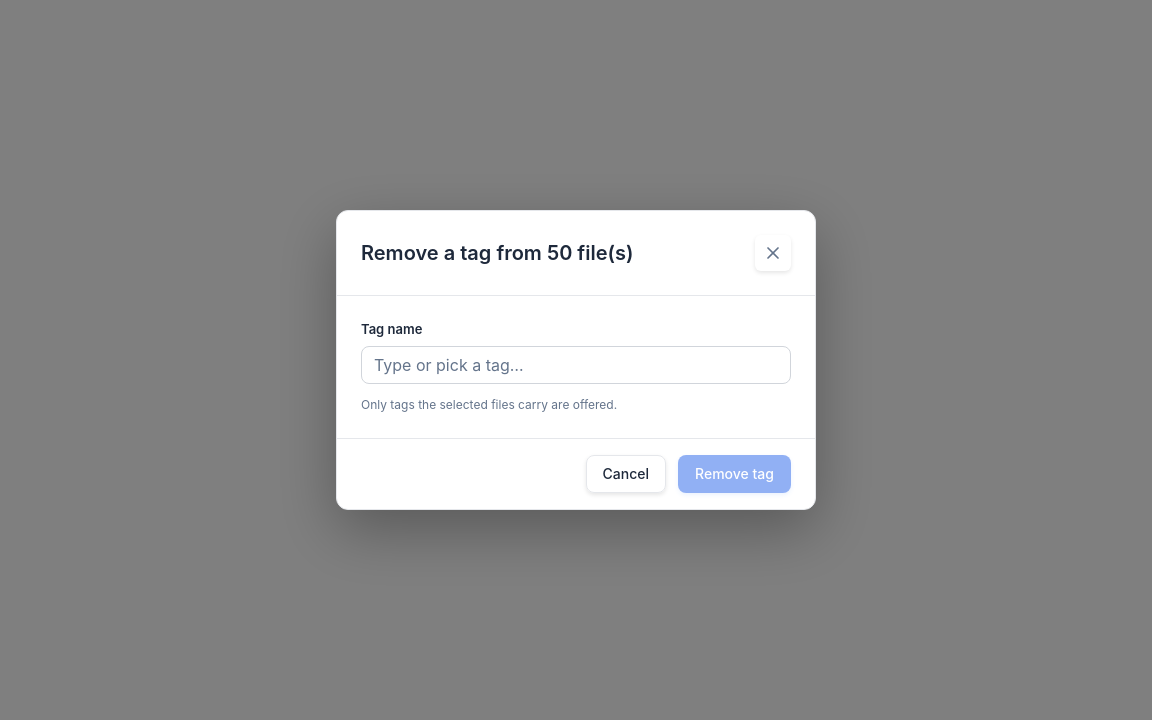
Test case: BulkTagModal › scopes remove suggestions to the tags the selection carries
The image size is (1152, 720).
Expected: the text "Only tags the selected files carry are offered." is shown, [361,397,617,412]
Step 1. Type "r" into the dropdown → (576, 365), box [361,346,791,384]
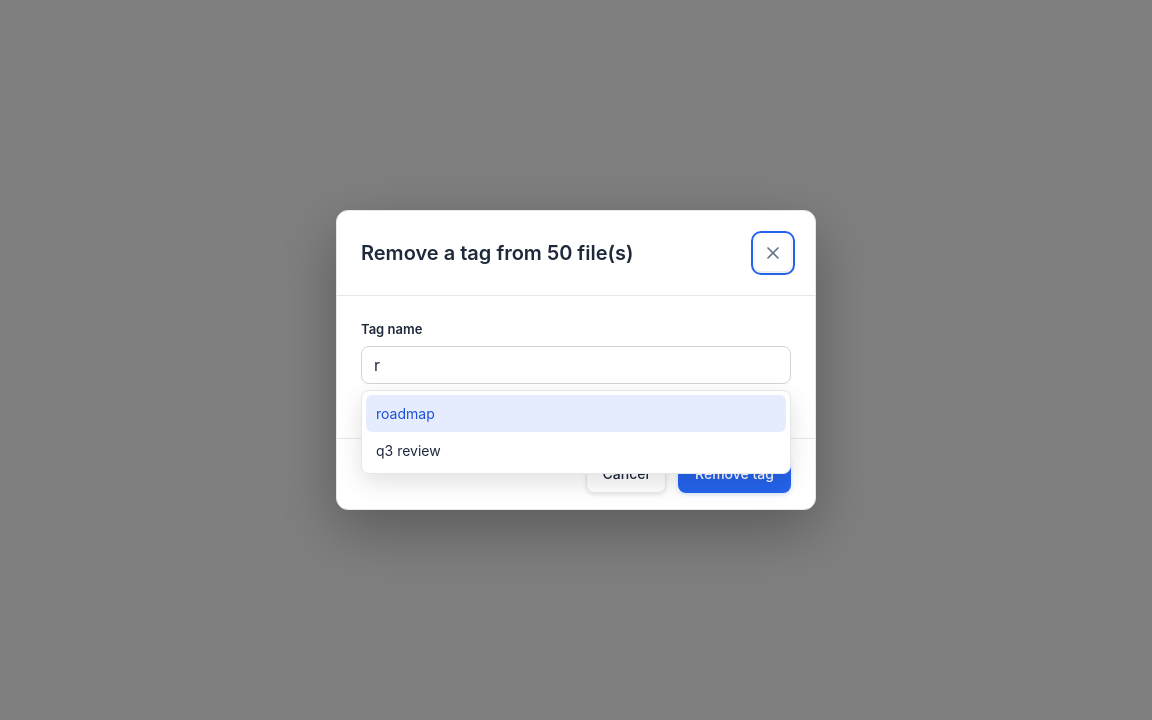
Expected: the option "roadmap" is shown, [366,395,786,432]
Expected: the option "q3 review" is shown, [376,442,441,459]
